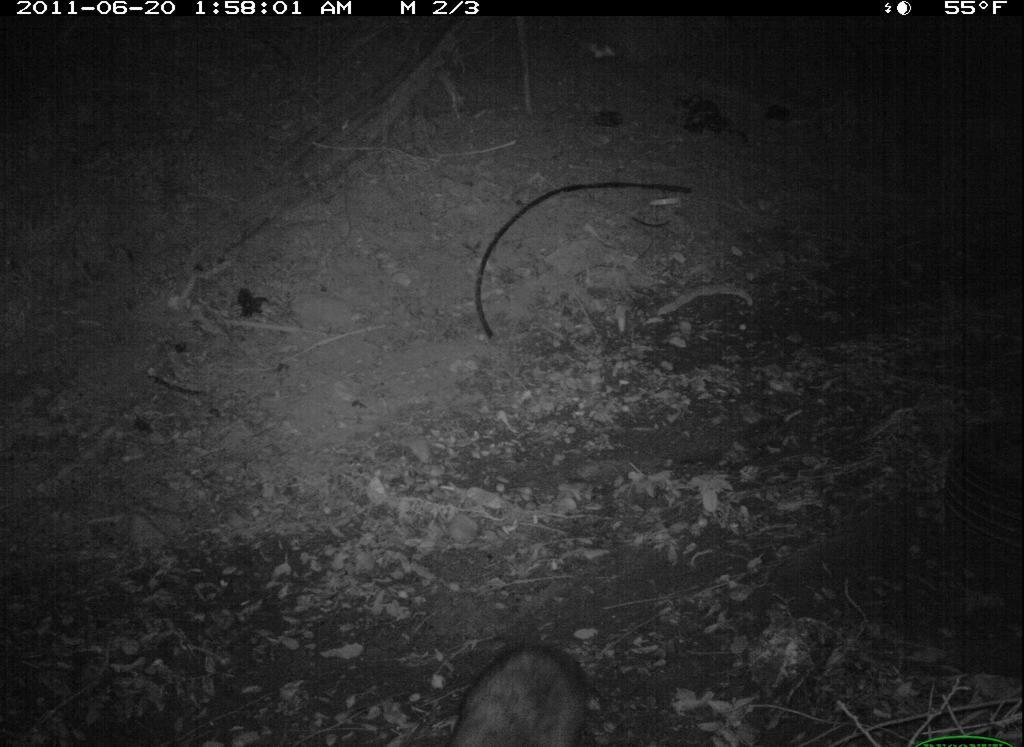raccoon: (433, 616, 609, 747)
